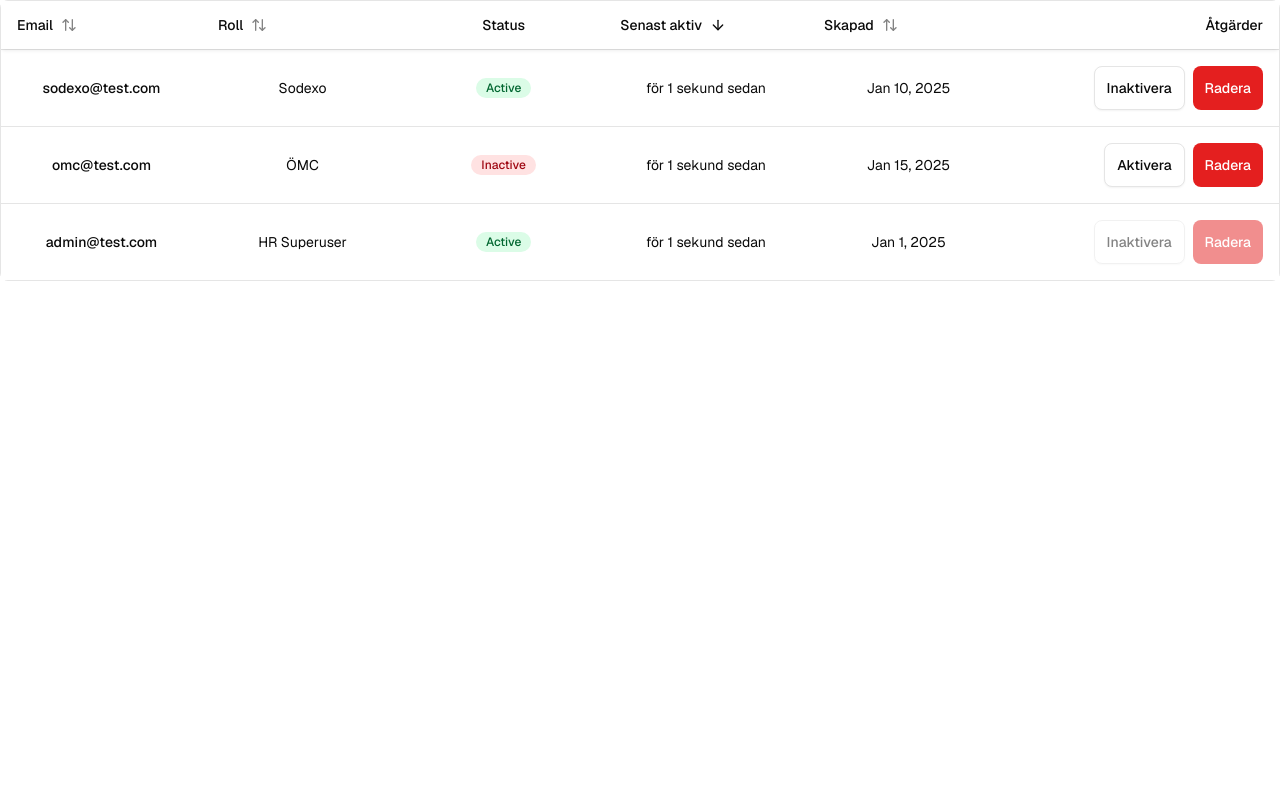
Test case: UserManagementTable › shows confirmation dialog when deactivate clicked
What coordinates should you click on to do the following:
click the button "Inaktivera" in the row of "sodexo@test.com"
I would click on:
 (1139, 88)
Its box is 1094,66 -> 1184,110.
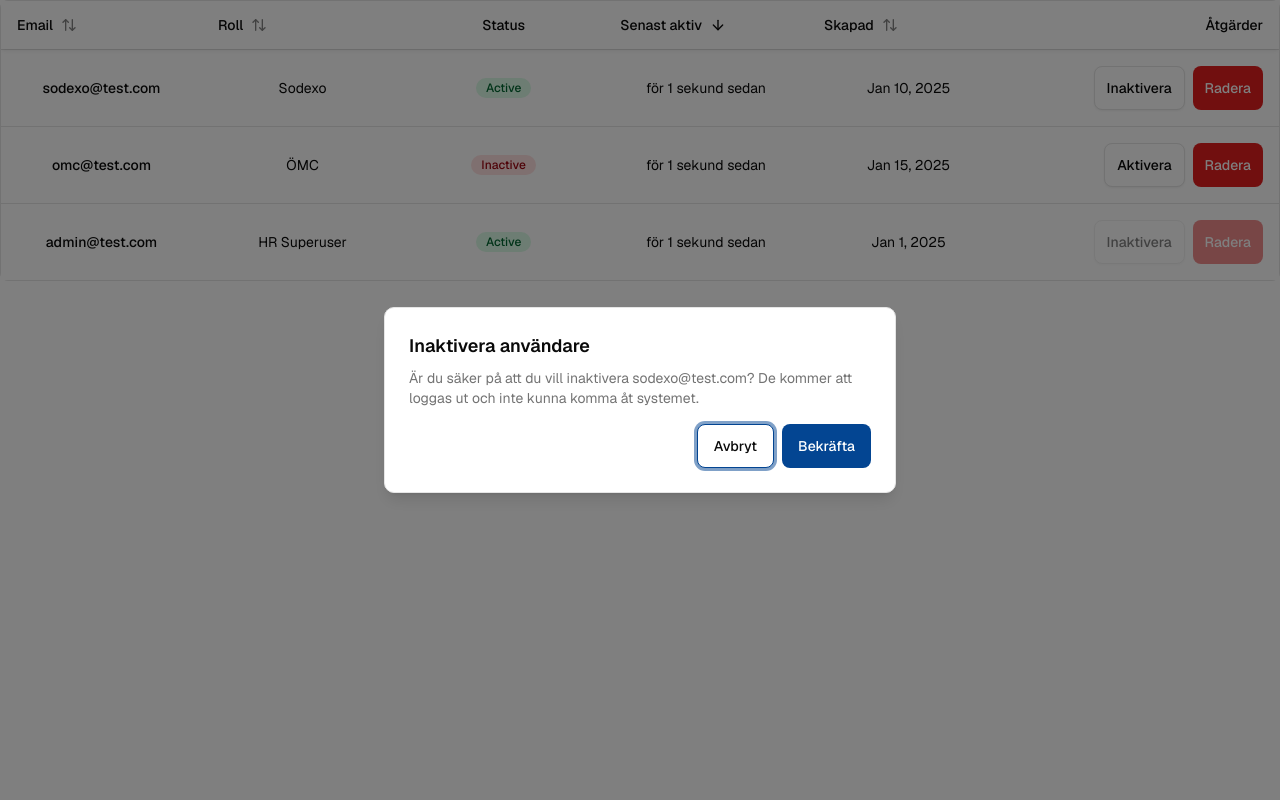
Result: the text "Är du säker på att du vill inaktivera" is shown at 409,369 -> 852,407
